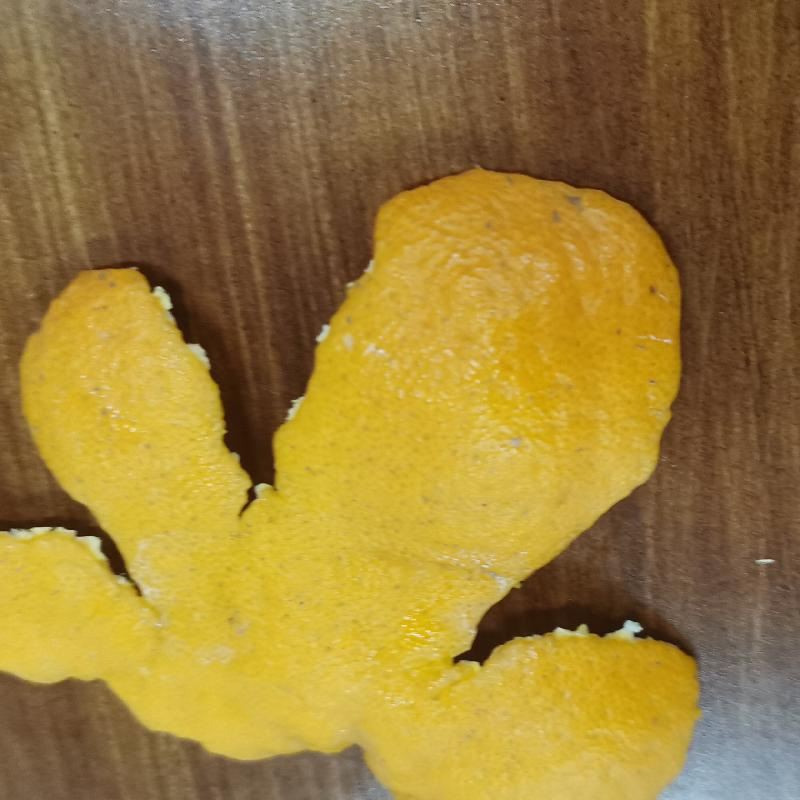orange: (5, 162, 703, 800)
